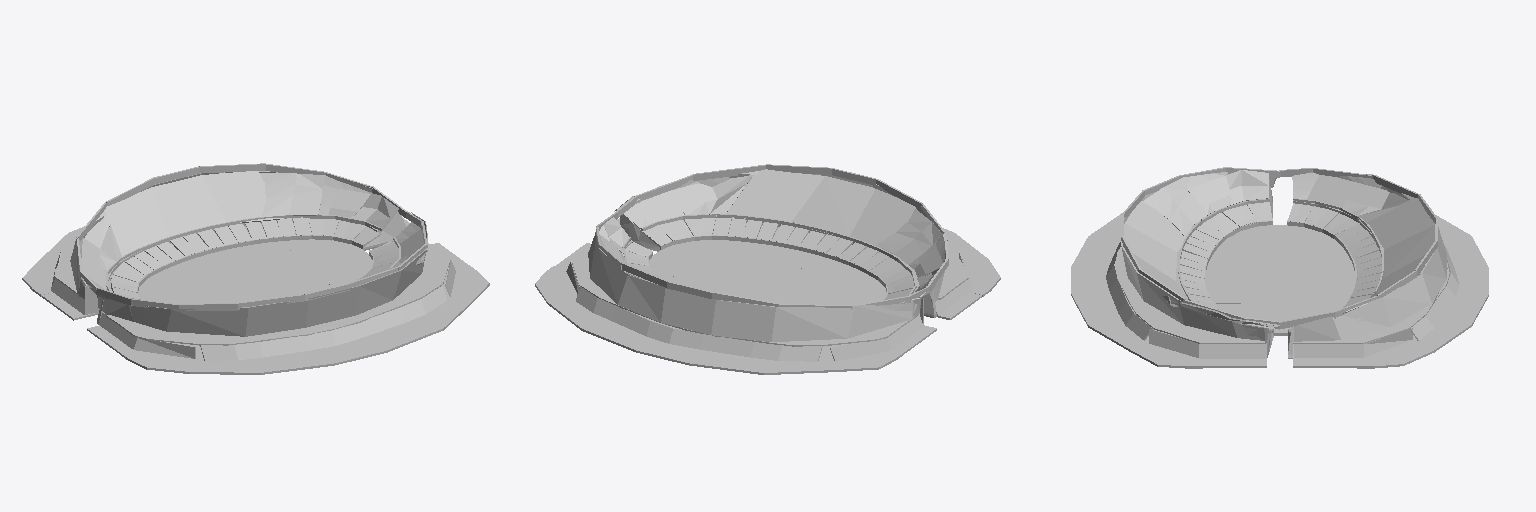
Rendered from estadioV1.obj.
3 views of the same model, side by side, from view 1: azimuth 30°, elevation 25°; view 2: azimuth 150°, elevation 25°; view 3: azimuth 270°, elevation 25° (orthographic).
Parts seen in each view (by area): view 1: pasted__pCube13 group122, pasted__pasted__pasted__pasted__pCube5 pasted__pasted__pasted__g, pCube7, pCube6, pCube9, pCube1, pCube14, pasted__pCube1 group124, pCube17, pasted__pasted__pCube1 pasted__group126 group127, pasted__pasted__pCube1 pasted__group124 group125, pCube16 (+14 smaller); view 2: pasted__pasted__pasted__pCube5 pasted__pasted__group93 pasted__g, group123 pasted__pasted__pCube13 pasted__group122, pasted__pCube7 group114, pasted__pCube9 group117, pCube1, group123 pasted__pCube17, pasted__pCube1 group124, pasted__pCube6 group111, group123 pasted__pCube14, pasted__pCube1 group126, pasted__pasted__pCube1 pasted__group124 group125, pCube7 (+11 smaller); view 3: pCube7, pasted__pCube7 group114, pasted__pasted__pasted__pCube5 pasted__pasted__group93 pasted__g, pCube1, pasted__pCube13 group122, group123 pasted__pasted__pCube13 pasted__group122, pCube17, pasted__pasted__pasted__pasted__pCube5 pasted__pasted__pasted__g, pCube6, pasted__pasted__pCube1 pasted__group124 group125, group123 pasted__pCube14, pCube11 (+18 smaller).
Part boxes in pixels (x1,y1,x2,y2): pasted__pCube13 group122: (105, 171, 283, 256); pasted__pasted__pasted__pasted__pCube5 pasted__pasted__pasted__g: (97, 225, 426, 336); pCube7: (119, 266, 489, 374); pCube6: (106, 243, 449, 345); pCube9: (200, 285, 446, 360); pCube1: (186, 252, 323, 302); pCube14: (260, 173, 324, 216); pasted__pCube1 group124: (285, 240, 372, 280); pCube17: (79, 210, 121, 289); pasted__pasted__pCube1 pasted__group126 group127: (172, 242, 283, 275); pasted__pasted__pCube1 pasted__group124 group125: (138, 276, 221, 303); pCube16: (319, 175, 372, 217); pasted__pasted__pasted__pCube5 pasted__pasted__group93 pasted__g: (588, 227, 920, 341); group123 pasted__pasted__pCube13 pasted__group122: (726, 169, 915, 253); pasted__pCube7 group114: (535, 266, 904, 374); pasted__pCube9 group117: (576, 286, 822, 361); pCube1: (698, 253, 835, 303); group123 pasted__pCube17: (614, 171, 758, 229); pasted__pCube1 group124: (649, 242, 736, 281); pasted__pCube6 group111: (572, 241, 915, 346); group123 pasted__pCube14: (876, 209, 941, 264); pasted__pCube1 group126: (738, 243, 850, 276); pasted__pasted__pCube1 pasted__group124 group125: (801, 277, 886, 305); pCube7: (713, 221, 1000, 296); pCube7: (1071, 213, 1202, 368); pasted__pCube7 group114: (1357, 215, 1488, 368); pasted__pasted__pasted__pCube5 pasted__pasted__group93 pasted__g: (1291, 174, 1446, 341); pCube1: (1241, 255, 1321, 302); pasted__pCube13 group122: (1367, 198, 1434, 294); group123 pasted__pasted__pCube13 pasted__group122: (1124, 201, 1190, 299); pCube17: (1292, 170, 1413, 222); pasted__pasted__pasted__pasted__pCube5 pasted__pasted__pasted__g: (1121, 177, 1276, 340); pCube6: (1115, 201, 1265, 343); pasted__pasted__pCube1 pasted__group124 group125: (1241, 225, 1321, 254); group123 pasted__pCube14: (1142, 178, 1207, 235); pCube11: (1149, 329, 1266, 358).
Size of the model in its own units: 47.91 by 6.95 by 49.35.